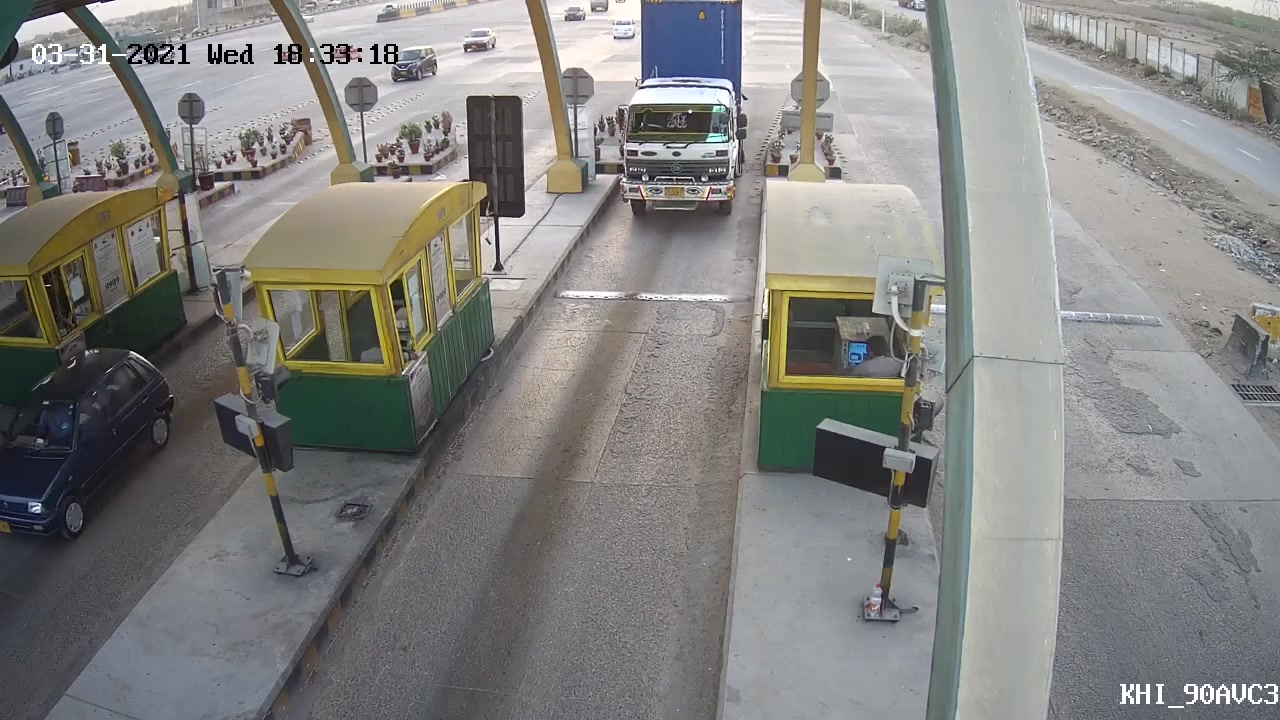F6: (610, 5, 757, 233)
